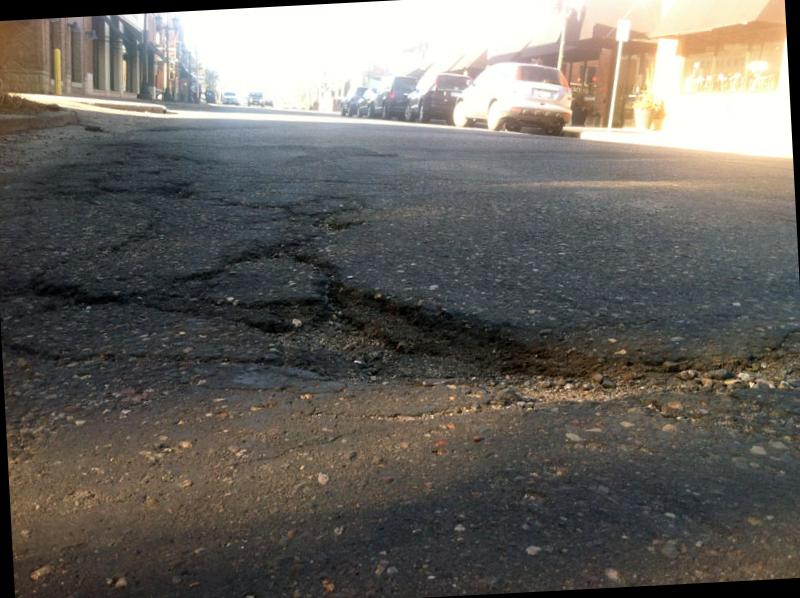pothole: (100, 177, 674, 526)
